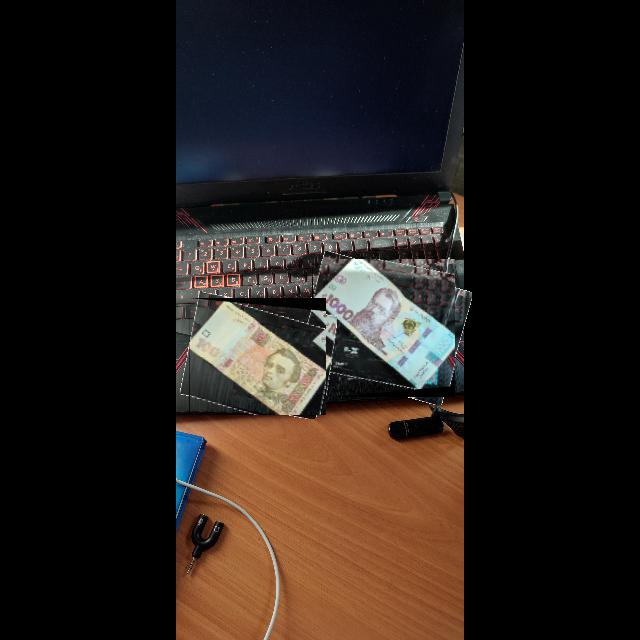1000uah: (314, 259, 456, 391)
100uah: (190, 302, 327, 416)
